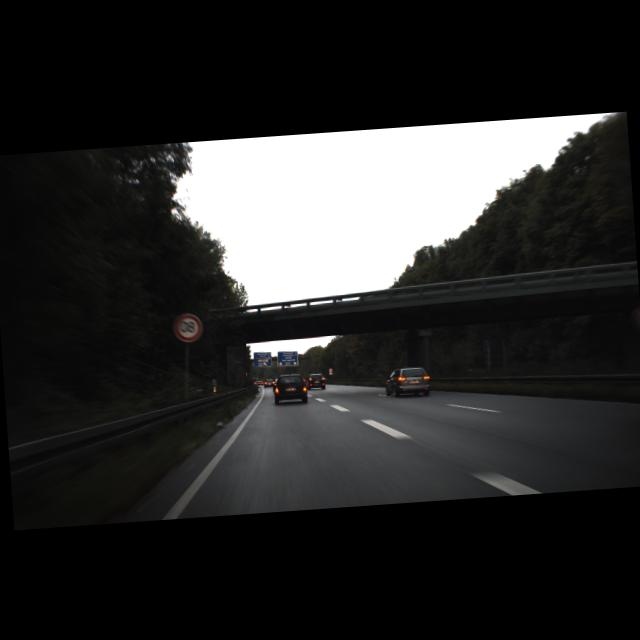prohibitory: (172, 312, 202, 342)
